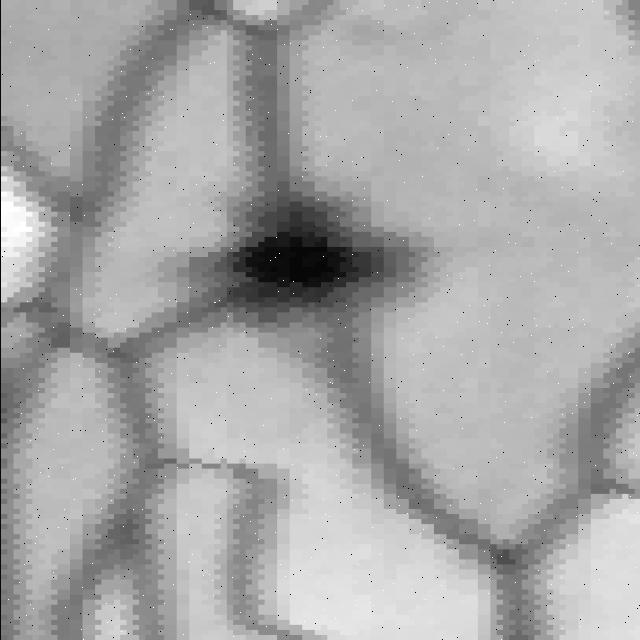good_void: (172, 183, 452, 348)
